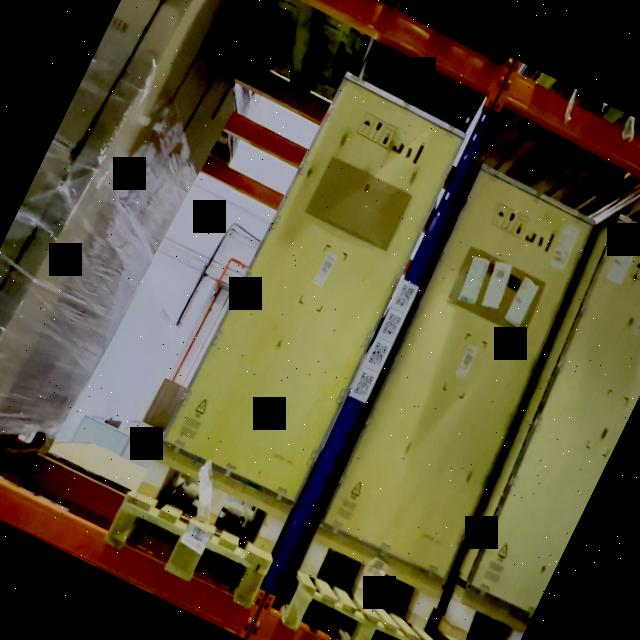box: (168, 78, 464, 500), (319, 173, 596, 574)
